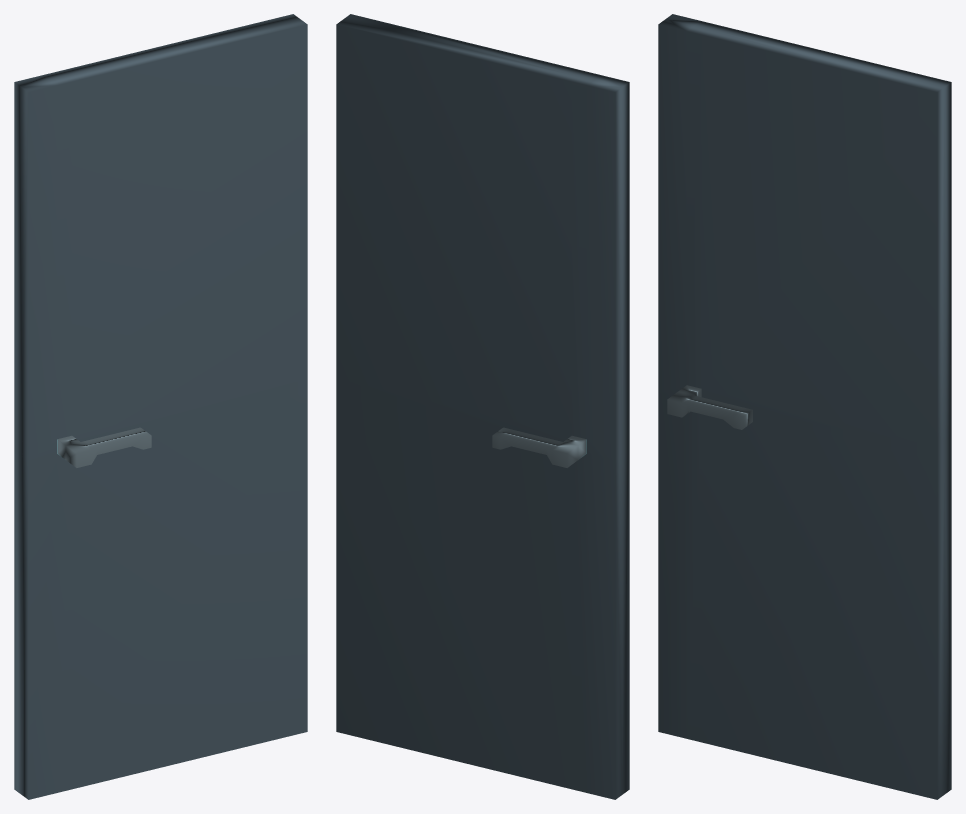
Rendered from Door_Everywhere_V1.fbx.
The picture shows the model from 3 angles, left to right: view 1: azimuth 30°, elevation 25°; view 2: azimuth 150°, elevation 25°; view 3: azimuth 330°, elevation 25°; orthographic projection.
Visible parts, largest first — view 1: Cube.002; view 2: Cube.002; view 3: Cube.002.
Boxes of the visible parts, x1,y1,x2,y2 form: Cube.002: (14, 14, 307, 799); Cube.002: (336, 14, 629, 799); Cube.002: (658, 14, 951, 799).
Bounding box in the file's own units: 91.48 × 222 × 30.39.
